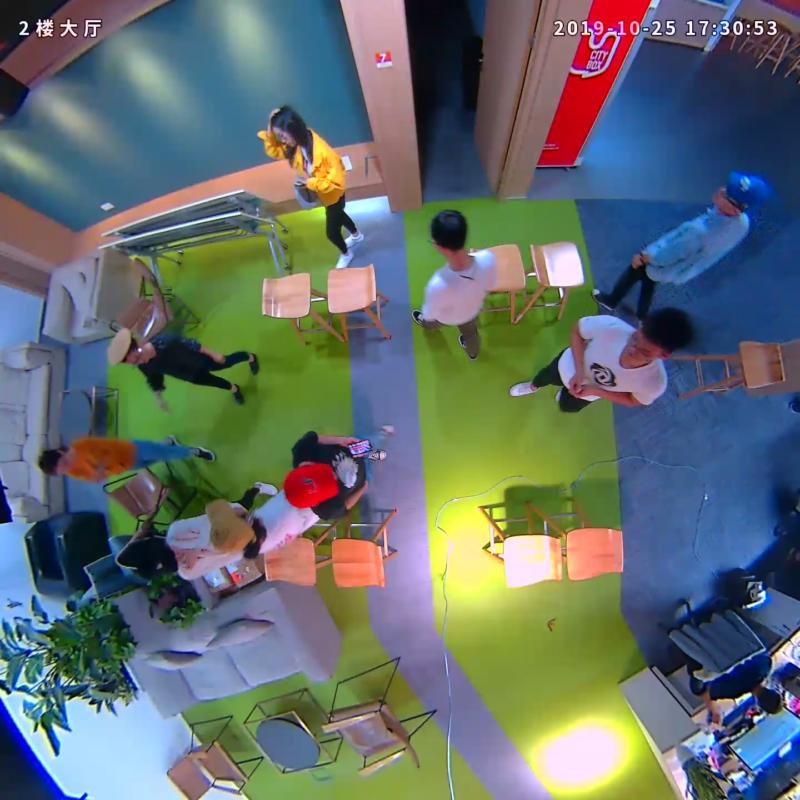head: (625, 307, 693, 365), (203, 498, 258, 555), (282, 461, 340, 510), (713, 170, 772, 215), (430, 207, 469, 256), (106, 327, 150, 366), (141, 545, 186, 578), (270, 106, 302, 148), (37, 446, 75, 479)
